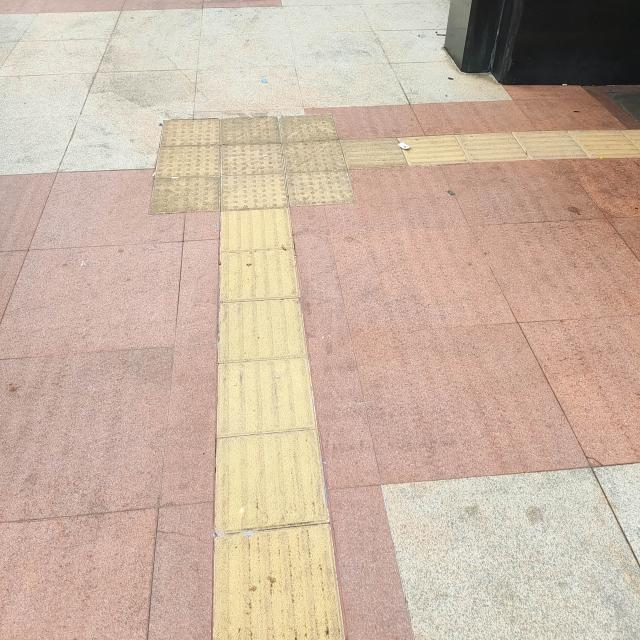kanan: (155, 93, 488, 248)
